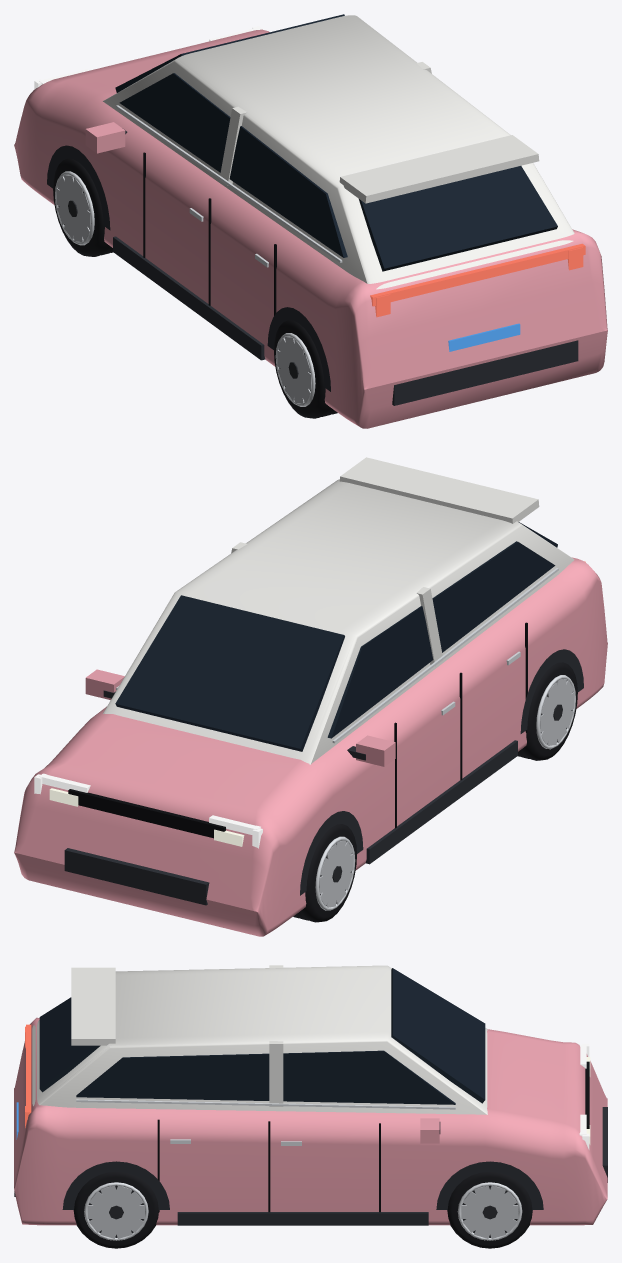
File: car.glb
3 renders of one model, top to bottom at view 1: azimuth 30°, elevation 25°; view 2: azimuth 150°, elevation 25°; view 3: azimuth 270°, elevation 25°, orthographic. The views are drawn at different scales.
Size of the model in its own units: 2.11 by 1.57 by 4.29.
